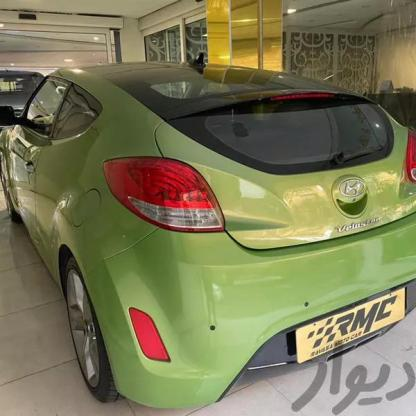Car: (0, 64, 416, 416)
